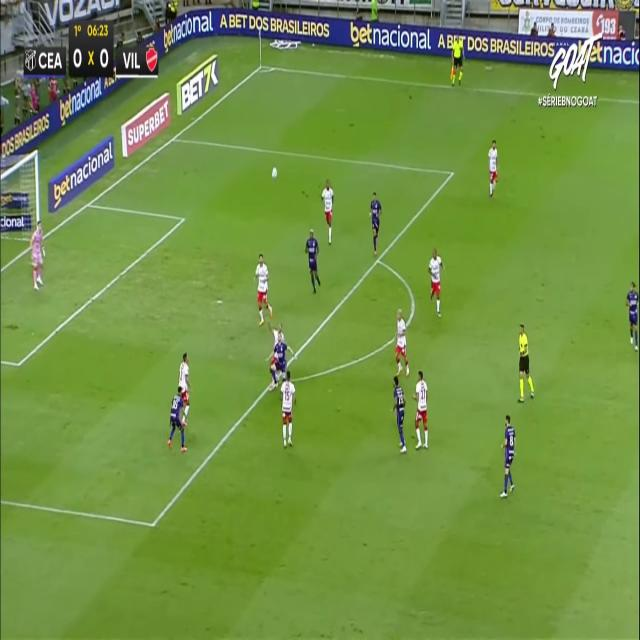ball: (271, 166, 277, 179)
goalkeeper: (30, 219, 46, 290)
player: (269, 319, 290, 386), (254, 253, 273, 326), (167, 384, 187, 452), (500, 413, 516, 497), (413, 370, 429, 449), (391, 375, 407, 453), (280, 370, 296, 447), (394, 307, 410, 377), (428, 248, 444, 317), (304, 229, 320, 294), (178, 352, 192, 426), (320, 179, 334, 245), (368, 191, 382, 256), (626, 281, 639, 350), (488, 139, 499, 197)
referee: (517, 323, 534, 402), (450, 34, 465, 85)
